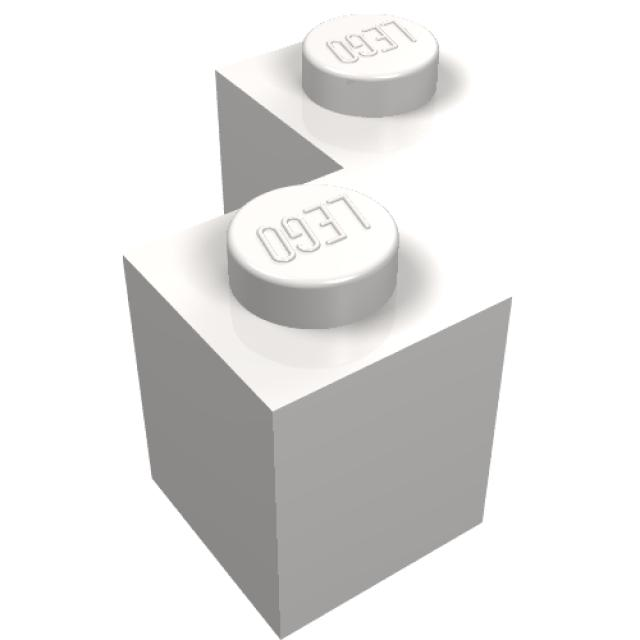White_Small: (122, 12, 513, 640)
